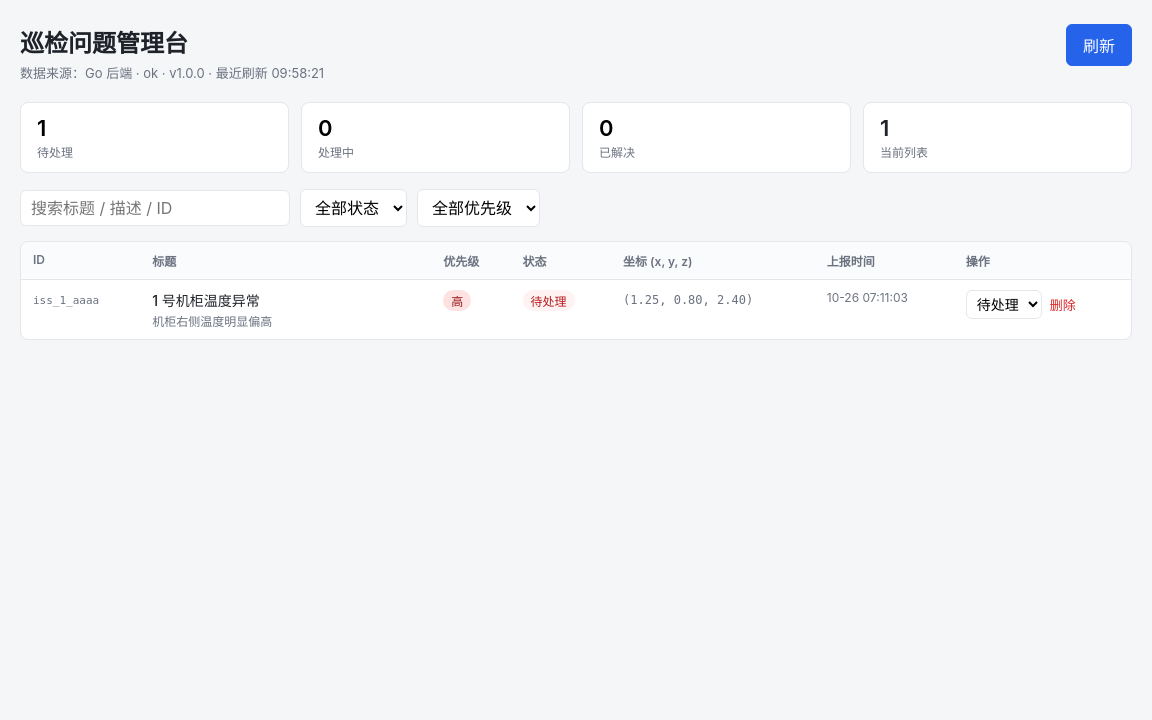
Test: 管理端 › 修改状态会 PATCH 后端并用返回值更新 UI
The image size is (1152, 720).
Select "处理中" in the dropdown named "修改「1 号机柜温度异常」的状态" at (1004, 304), box [966,290,1042,319]
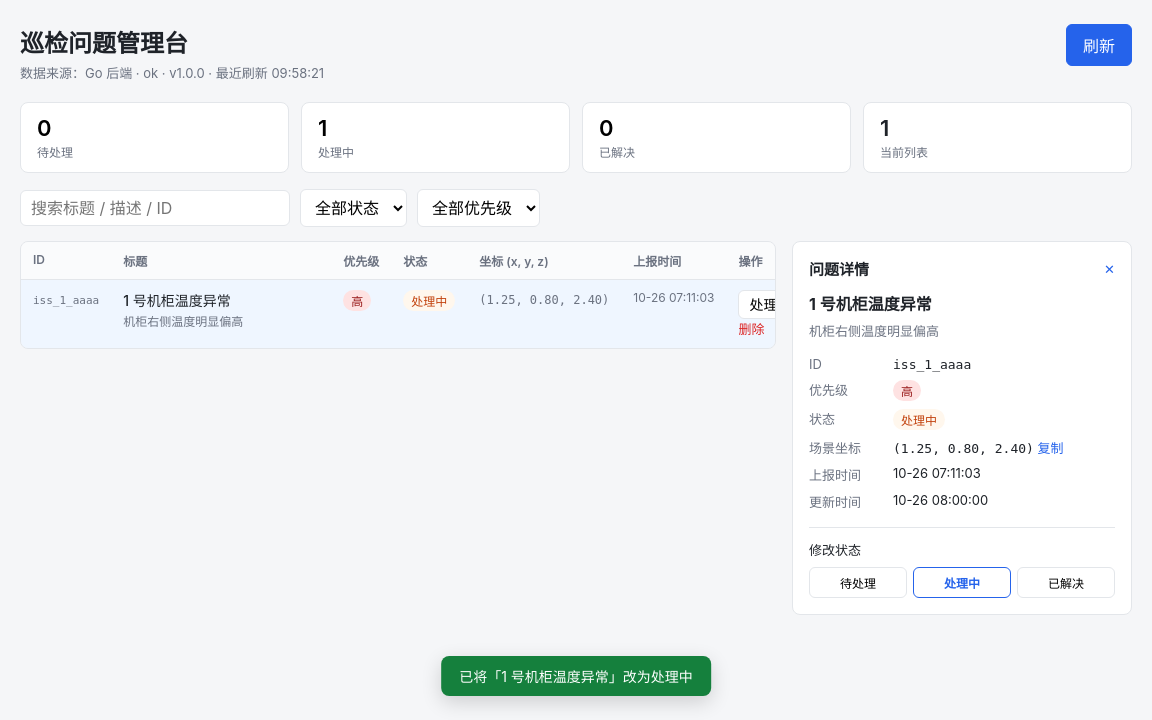
Now the text with class "badge-status" below "标题" reads "处理中", box [411,294,447,309]
Now the message shows "改为处理中", box [459,668,693,685]
